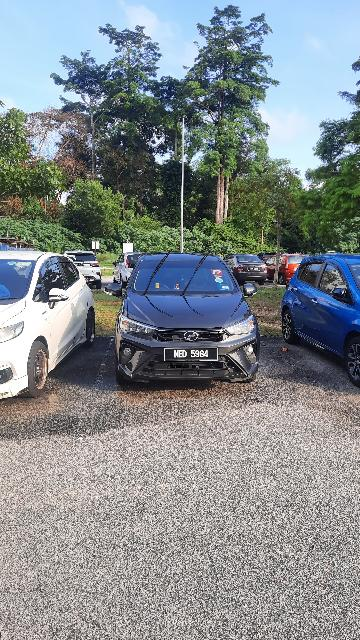License_Plate: (166, 346, 220, 365)
car: (100, 250, 262, 388), (1, 249, 97, 402), (282, 251, 360, 382)
